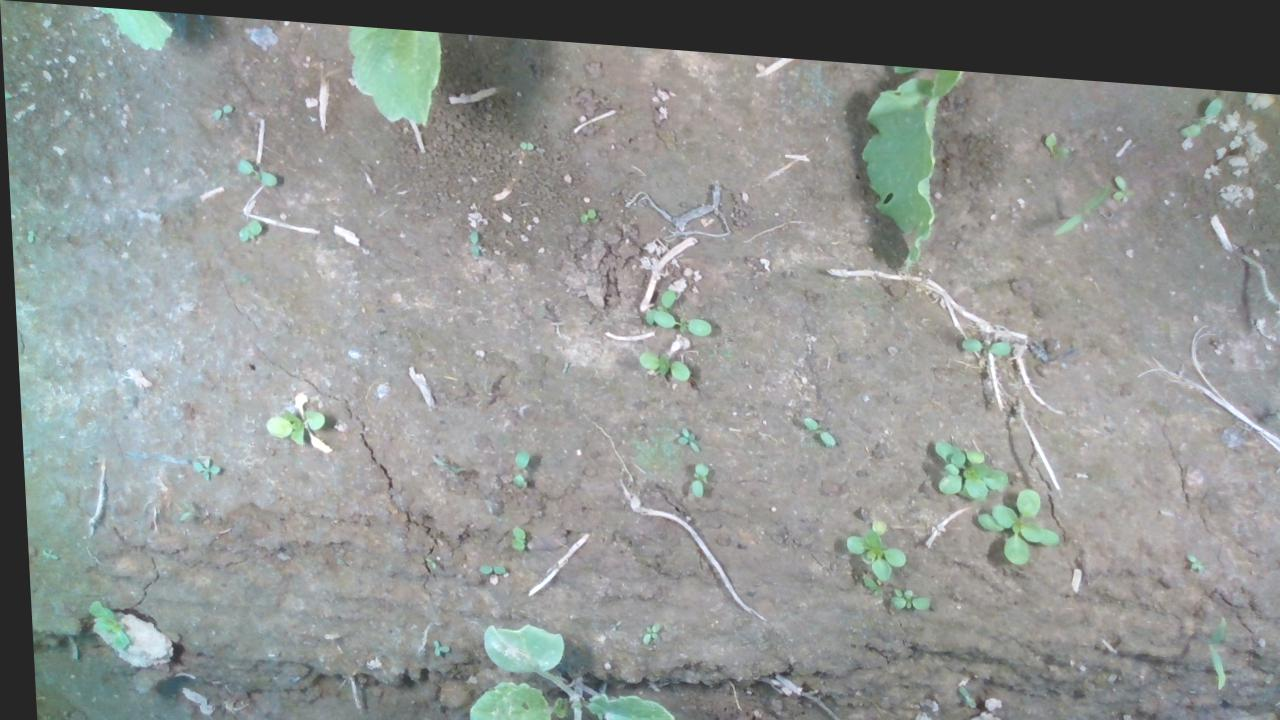weed: (1175, 74, 1225, 121), (234, 152, 276, 184), (880, 571, 925, 596), (797, 403, 832, 435), (503, 437, 527, 481), (682, 447, 706, 489), (955, 321, 1007, 340), (185, 451, 217, 480), (669, 414, 694, 442), (1110, 155, 1134, 184), (205, 96, 233, 117), (504, 516, 521, 543), (471, 555, 501, 569), (1178, 534, 1199, 552), (574, 197, 596, 210)
